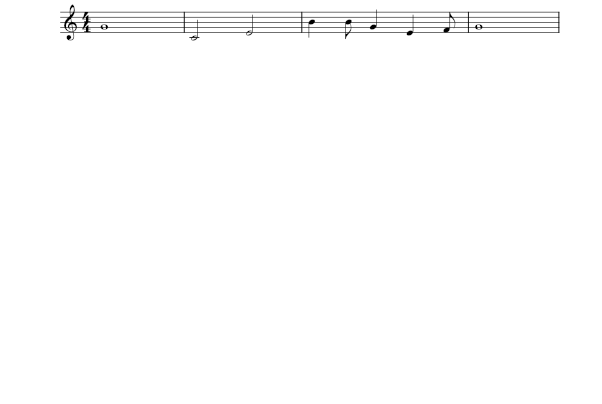Treble Clef: (59, 0, 79, 44)
